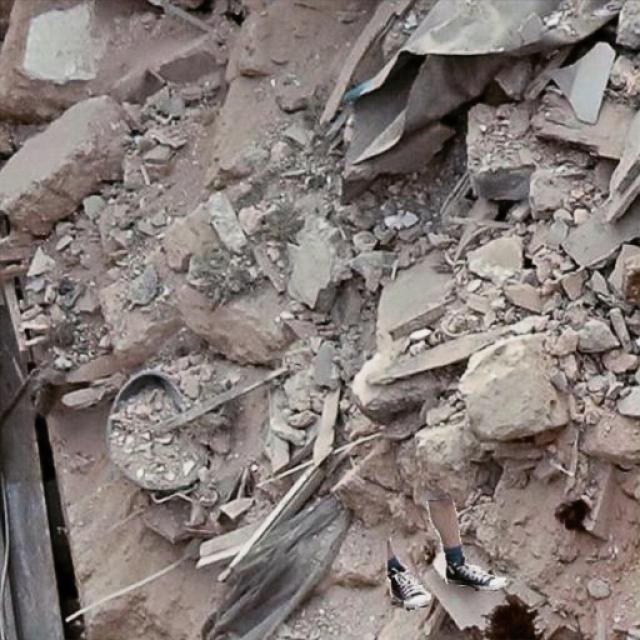Person in Rubble: (387, 499, 505, 610)
